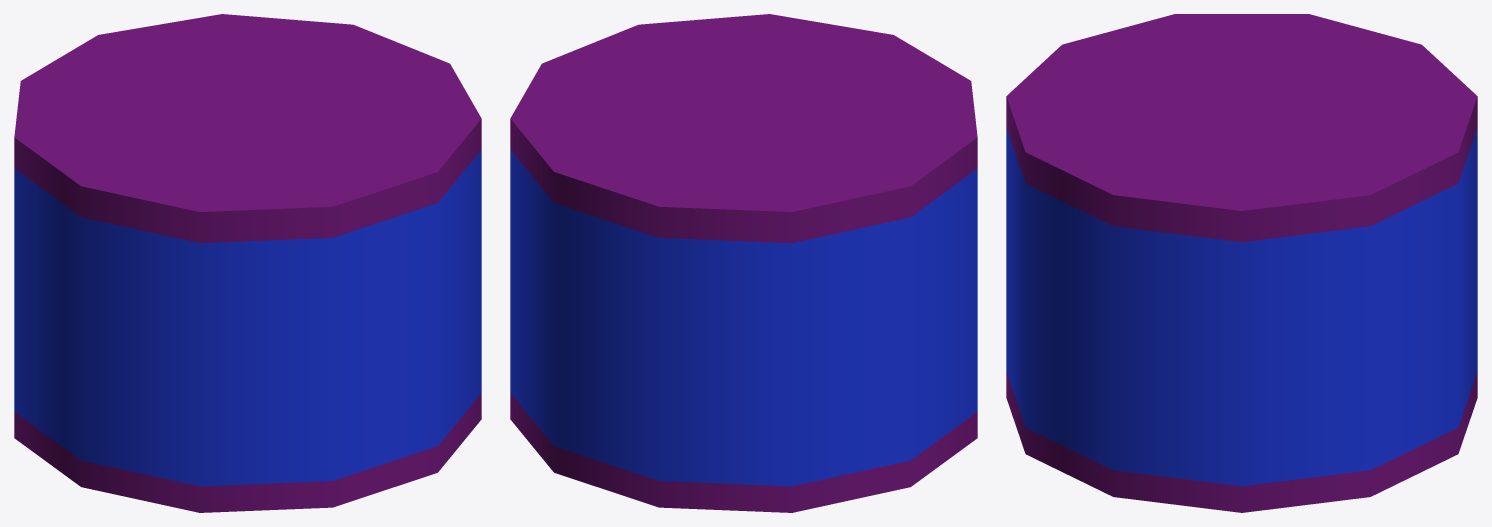
File: Bôite à meuh.fbx
The picture shows the model from 3 angles, left to right: view 1: azimuth 30°, elevation 25°; view 2: azimuth 150°, elevation 25°; view 3: azimuth 270°, elevation 25°; orthographic projection.
Visible parts, largest first — view 1: Boite à meuh; view 2: Boite à meuh; view 3: Boite à meuh.
Part boxes in pixels (x1,y1,x2,y2): Boite à meuh: [14, 14, 481, 512]; Boite à meuh: [510, 14, 977, 512]; Boite à meuh: [1006, 14, 1477, 512].
Bounding box in the file's own units: 9.8 × 7 × 9.9.
